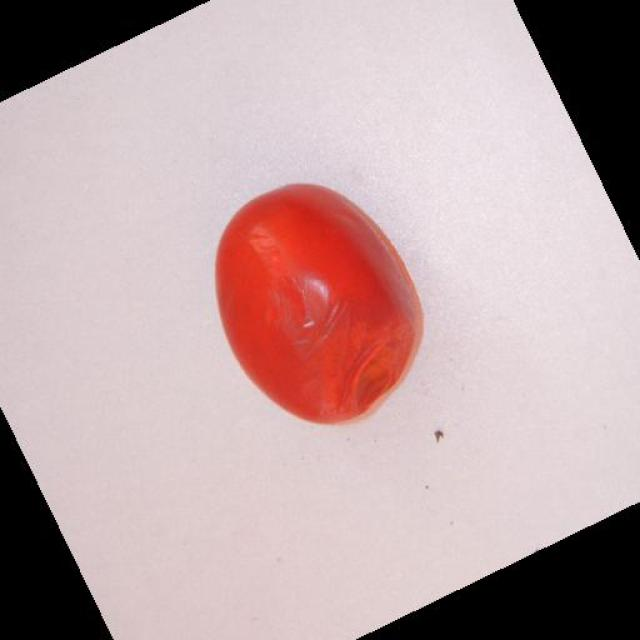Stale_tomato: (213, 167, 447, 413)
